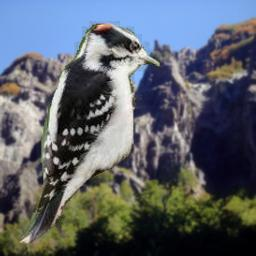Woodpecker: (20, 21, 170, 243)
